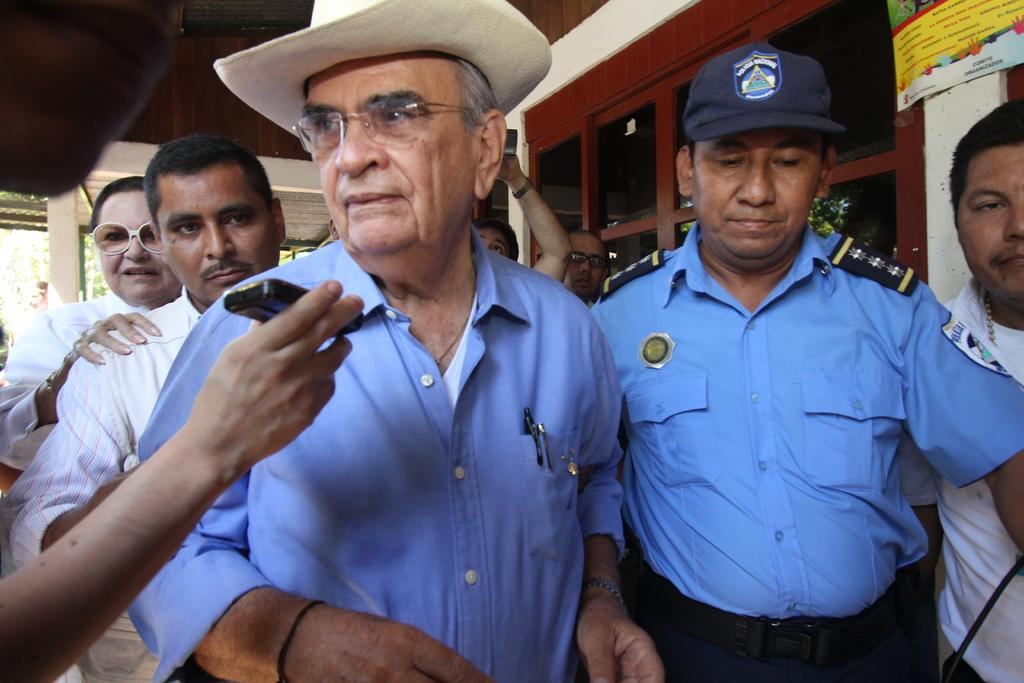Hat: (214, 0, 554, 148), (686, 39, 845, 138)
